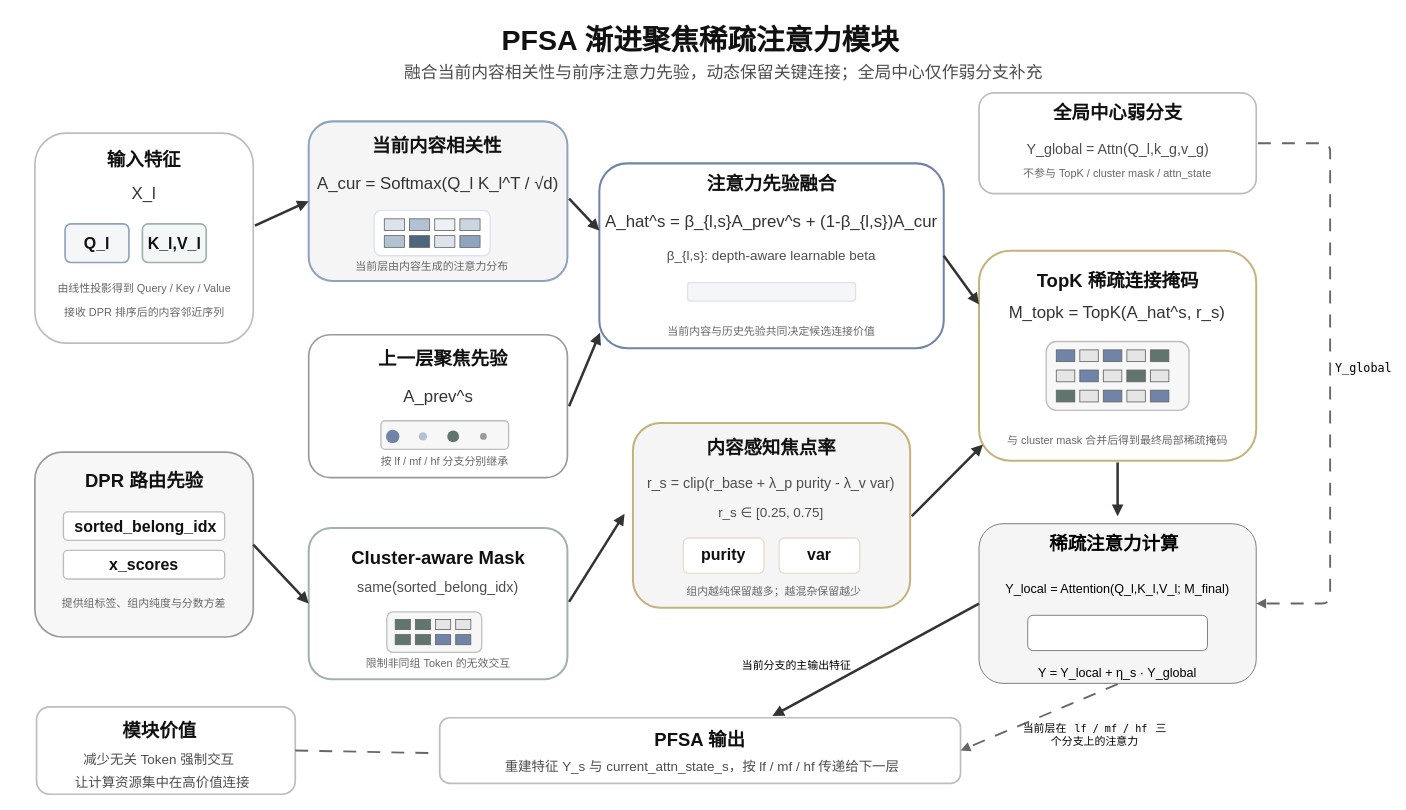
The diagram is 1406 pixels wide and 810 high, and some of its shapes have lost their labels. Each missing label, with the centre of its shape:
"仅在关键连接上交互" belongs at (1117,632).
"融合聚焦分布 A_hat^s" belongs at (771,291).
